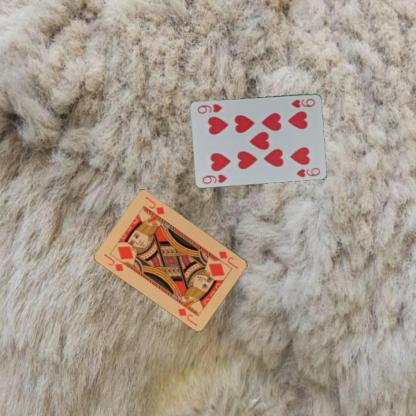9h: (200, 171, 229, 185), (288, 96, 316, 109)
Jd: (216, 248, 240, 270), (101, 250, 125, 272)
